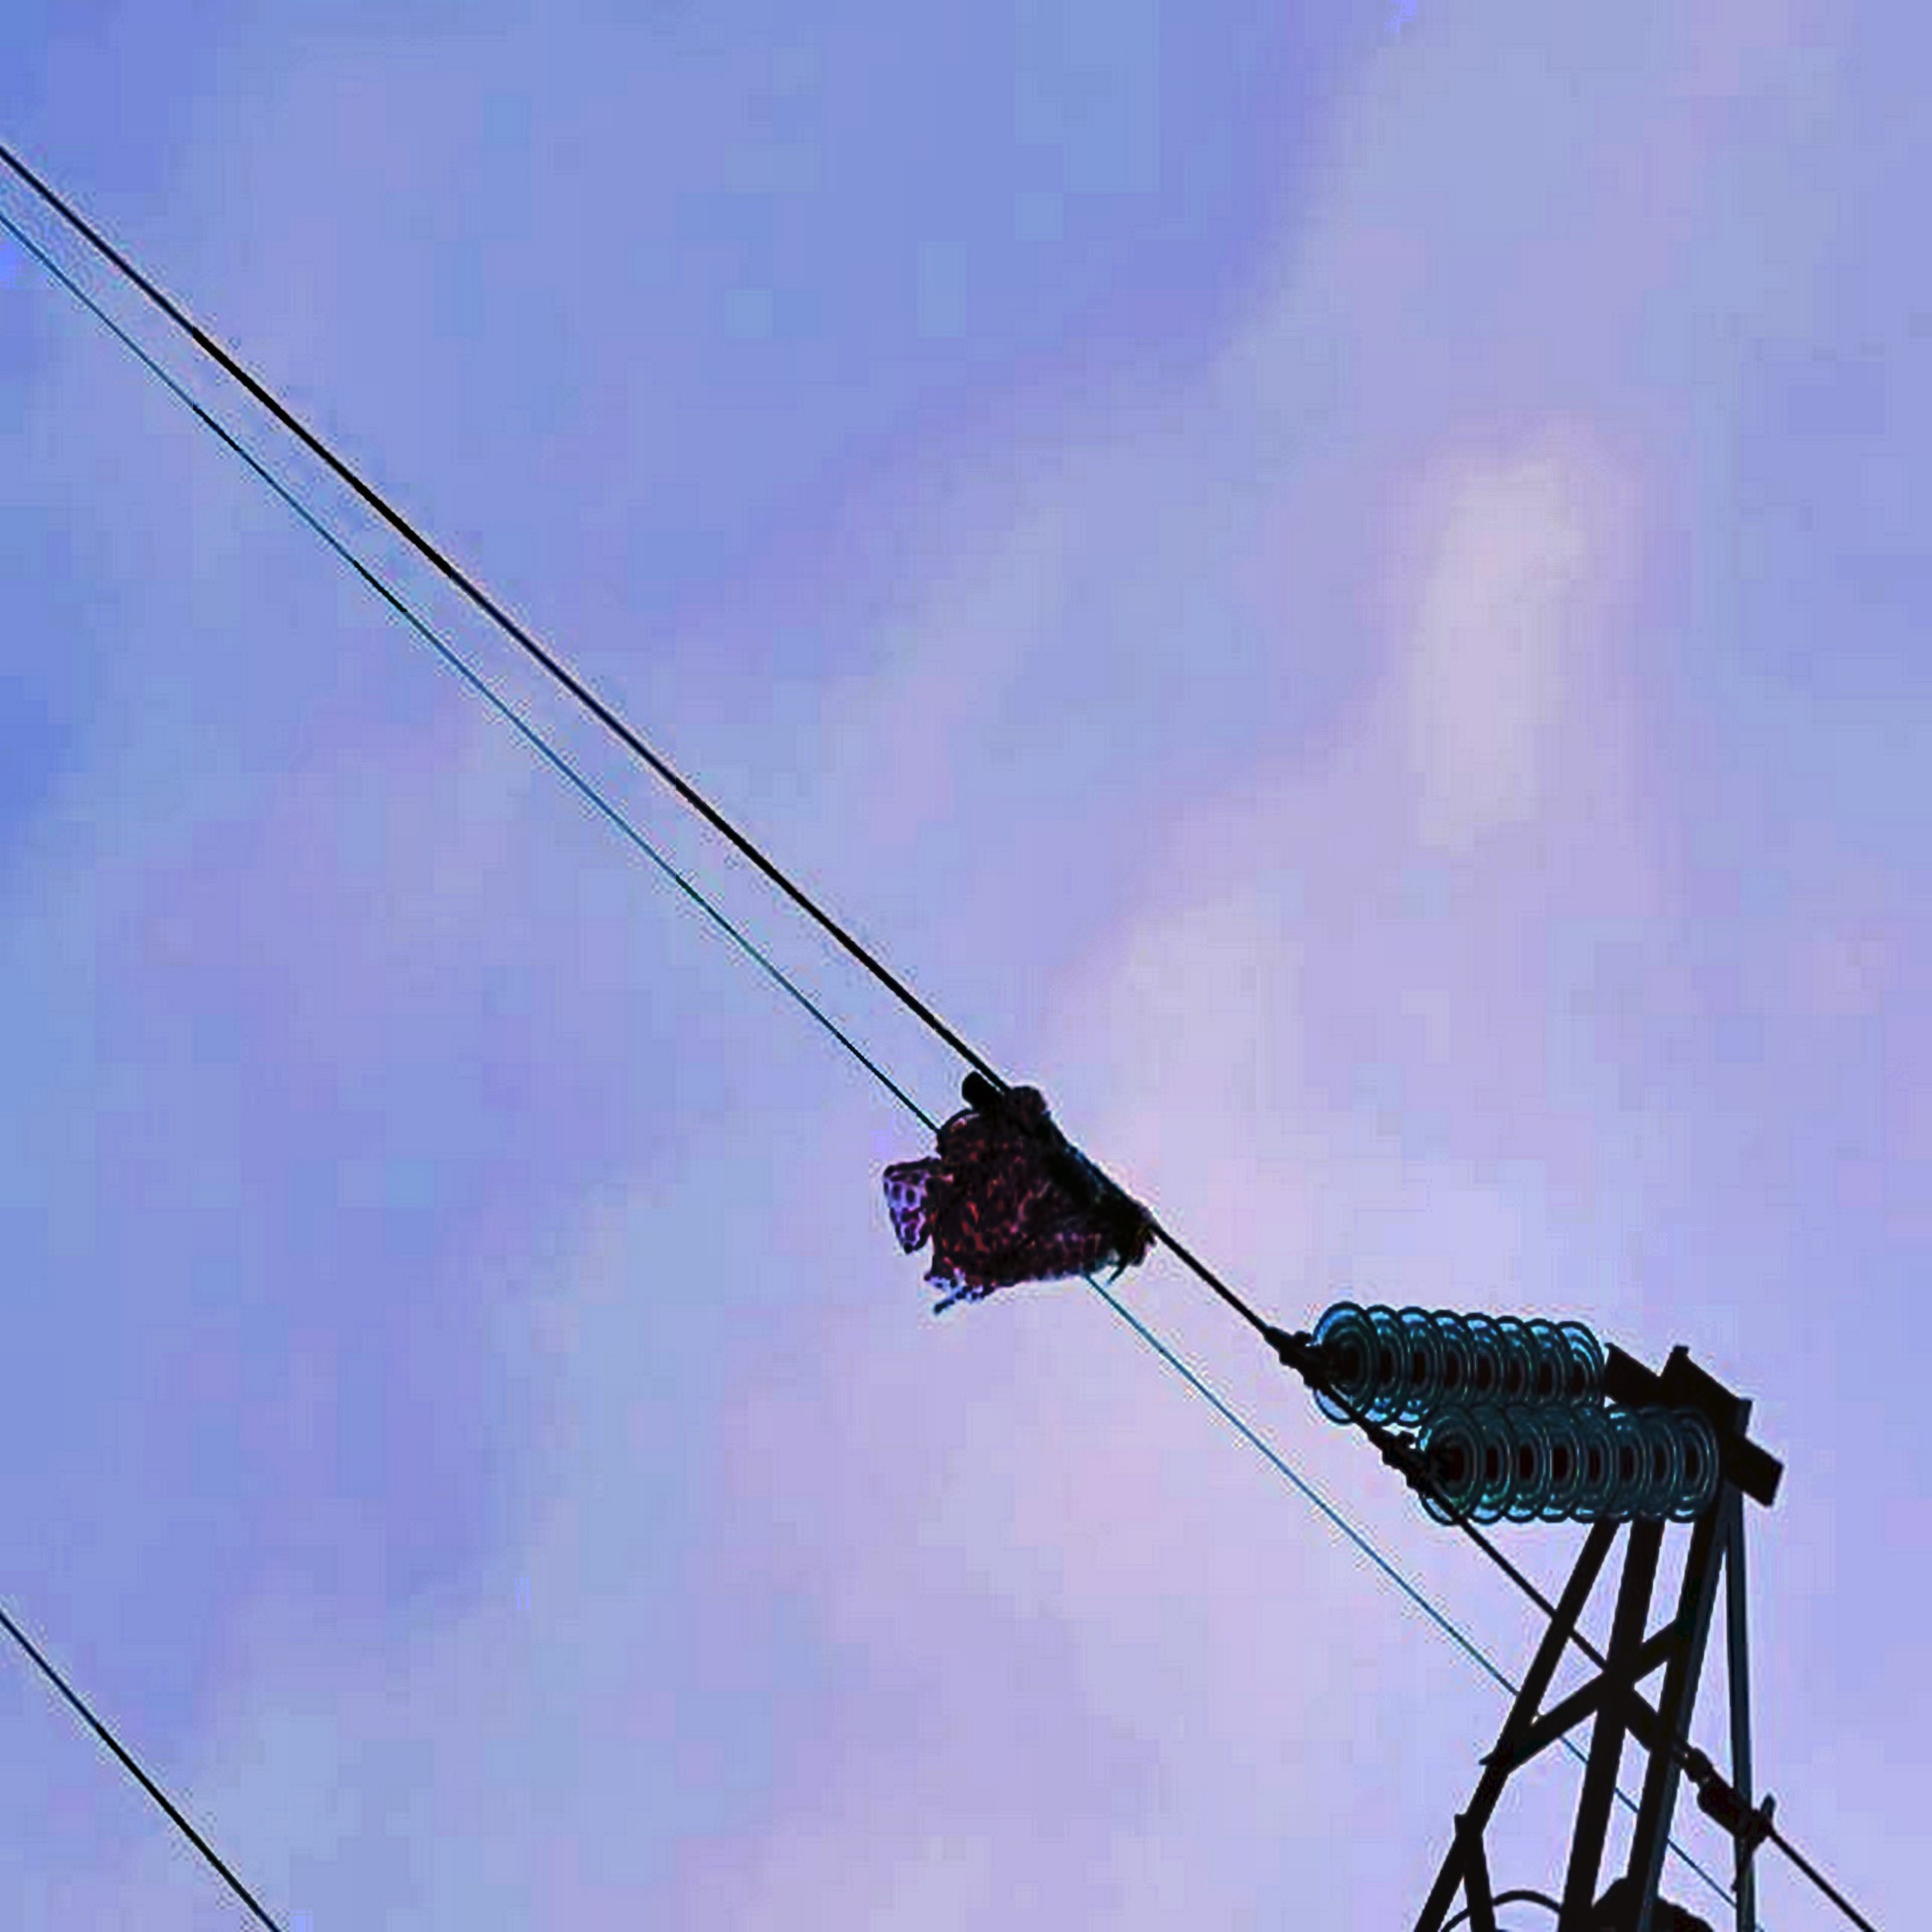wire foreign body: (833, 1056, 1221, 1332)
